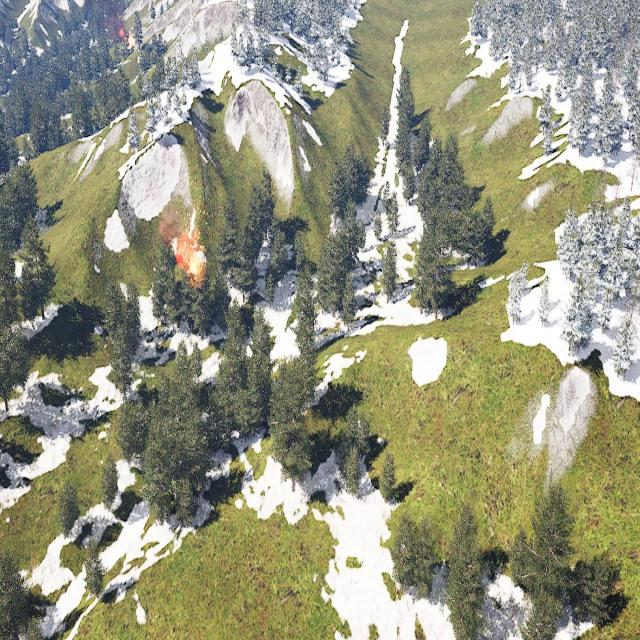fire: (178, 240, 205, 282), (119, 28, 130, 42)
smoke: (156, 195, 201, 249), (95, 0, 126, 34)
